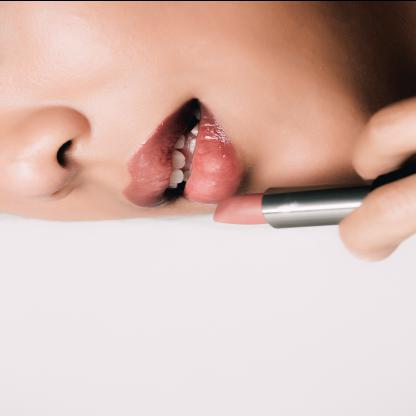Mouth: (120, 94, 244, 209)
Nose: (0, 105, 90, 202)
